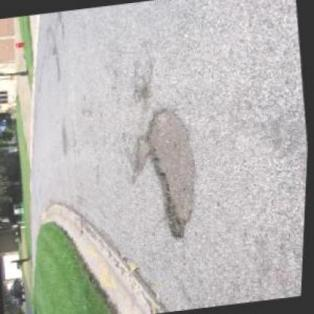Hueco: (138, 102, 208, 242), (129, 135, 153, 177), (138, 85, 154, 104)
